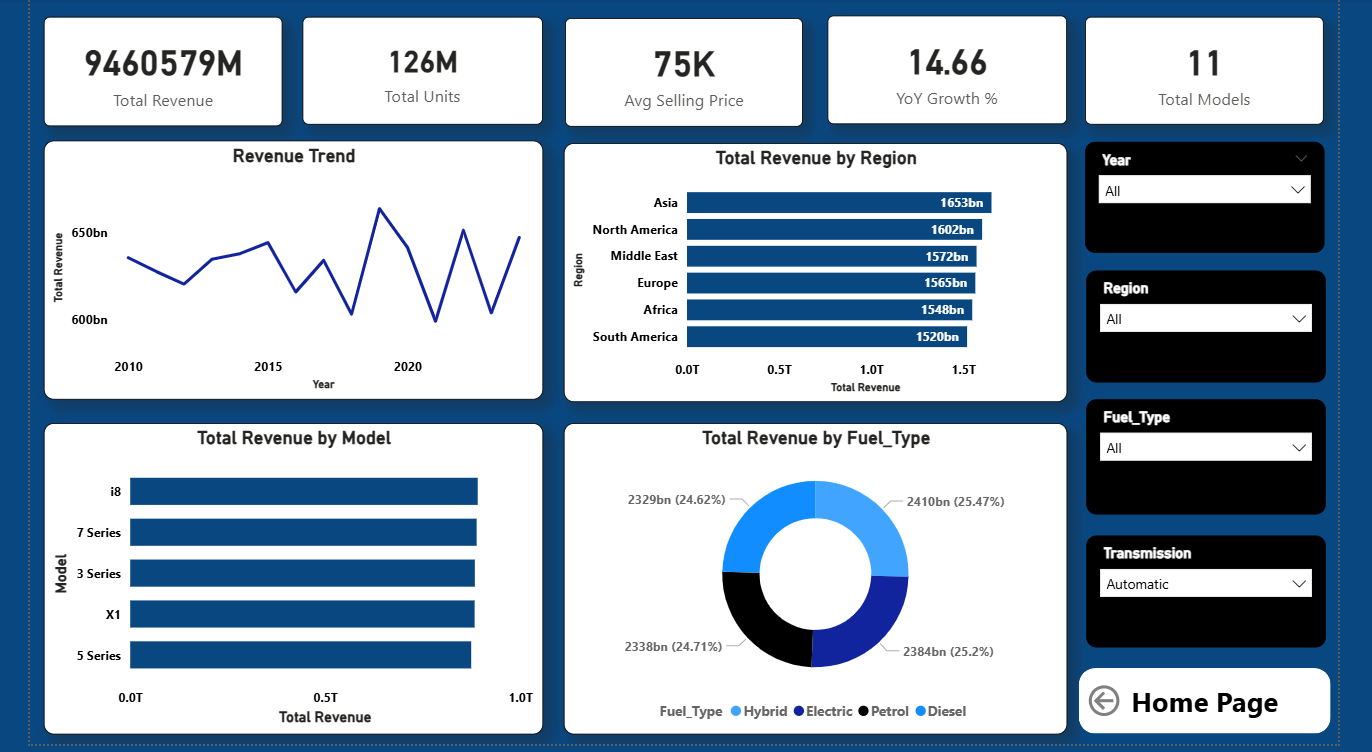

What the dashboard file says about the page in this screenshot:
{"tool":"powerbi","page":{"name":"Executive Overview","canvas":[1280,730],"ordinal":1},"visuals":[{"type":"card","fields":{"Values":["Fact_Sales.Total Revenue"]},"box":[13.4,17.8,233.8,106.9],"z":0},{"type":"card","fields":{"Values":["Fact_Sales.Total Units"]},"box":[267.2,17.8,234.9,105.8],"z":1000},{"type":"card","fields":{"Values":["Fact_Sales.Avg Selling Price"]},"box":[523.6,19.3,232.8,106.2],"z":2000},{"type":"card","fields":{"Values":["Fact_Sales.YoY Growth %"]},"box":[780.6,16.9,234,106.2],"z":3000},{"type":"card","fields":{"Values":["Fact_Sales.Total Models"]},"box":[1031.9,17.8,233.8,105.8],"z":4000},{"type":"lineChart","title":"Revenue Trend","fields":{"Category":["Fact_Sales.Year"],"Y":["Fact_Sales.Total Revenue"]},"box":[13.7,140,488.5,253.9],"z":5000},{"type":"barChart","fields":{"Category":["Fact_Sales.Region"],"Y":["Fact_Sales.Total Revenue"]},"box":[522.8,141.3,492.6,253.9],"z":6000},{"type":"barChart","fields":{"Y":["Fact_Sales.Total Revenue"],"Category":["Fact_Sales.Model"]},"box":[13.7,415.8,488.5,304.6],"z":7000},{"type":"donutChart","fields":{"Category":["Fact_Sales.Fuel_Type"],"Y":["Fact_Sales.Total Revenue"]},"box":[522.3,415.9,492.9,304.6],"z":8000},{"type":"shape","box":[1031.9,141.3,234.6,579.1],"z":9000},{"type":"slicer","fields":{"Values":["Fact_Sales.Year"]},"box":[1032.2,140.8,234.6,108.6],"z":10000},{"type":"slicer","fields":{"Values":["Fact_Sales.Region"]},"box":[1033.5,266.8,234.6,109.9],"z":11000},{"type":"slicer","fields":{"Values":["Fact_Sales.Fuel_Type"]},"box":[1033.5,392.8,234.6,112.6],"z":12000},{"type":"slicer","fields":{"Values":["Fact_Sales.Transmission"]},"box":[1033.5,525.5,234.6,109.9],"z":13000},{"type":"actionButton","box":[1026.8,655.5,246.7,64.3],"z":14000}]}

Visuals, with their boxes in screenshot pixels (x1, y1, x2, y2):
card - Fact_Sales.Total Revenue: [left=46, top=14, right=283, bottom=123]
card - Fact_Sales.Total Units: [left=303, top=14, right=541, bottom=122]
card - Fact_Sales.Avg Selling Price: [left=563, top=16, right=799, bottom=124]
card - Fact_Sales.YoY Growth %: [left=823, top=14, right=1061, bottom=121]
card - Fact_Sales.Total Models: [left=1078, top=14, right=1315, bottom=122]
"Revenue Trend" lineChart: [left=46, top=138, right=541, bottom=396]
barChart - Fact_Sales.Region x Fact_Sales.Total Revenue: [left=562, top=140, right=1061, bottom=397]
barChart - Fact_Sales.Total Revenue x Fact_Sales.Model: [left=46, top=418, right=541, bottom=727]
donutChart - Fact_Sales.Fuel_Type x Fact_Sales.Total Revenue: [left=562, top=418, right=1061, bottom=727]
shape: [left=1078, top=140, right=1316, bottom=727]
slicer - Fact_Sales.Year: [left=1078, top=139, right=1316, bottom=249]
slicer - Fact_Sales.Region: [left=1080, top=267, right=1318, bottom=378]
slicer - Fact_Sales.Fuel_Type: [left=1080, top=395, right=1318, bottom=509]
slicer - Fact_Sales.Transmission: [left=1080, top=529, right=1318, bottom=640]
actionButton: [left=1073, top=661, right=1323, bottom=726]
